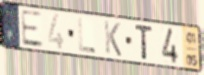4: (161, 26, 180, 66), (47, 12, 65, 52)
E: (20, 8, 45, 50)
K: (103, 19, 123, 59)
L: (76, 17, 97, 55)
T: (134, 23, 154, 62)
